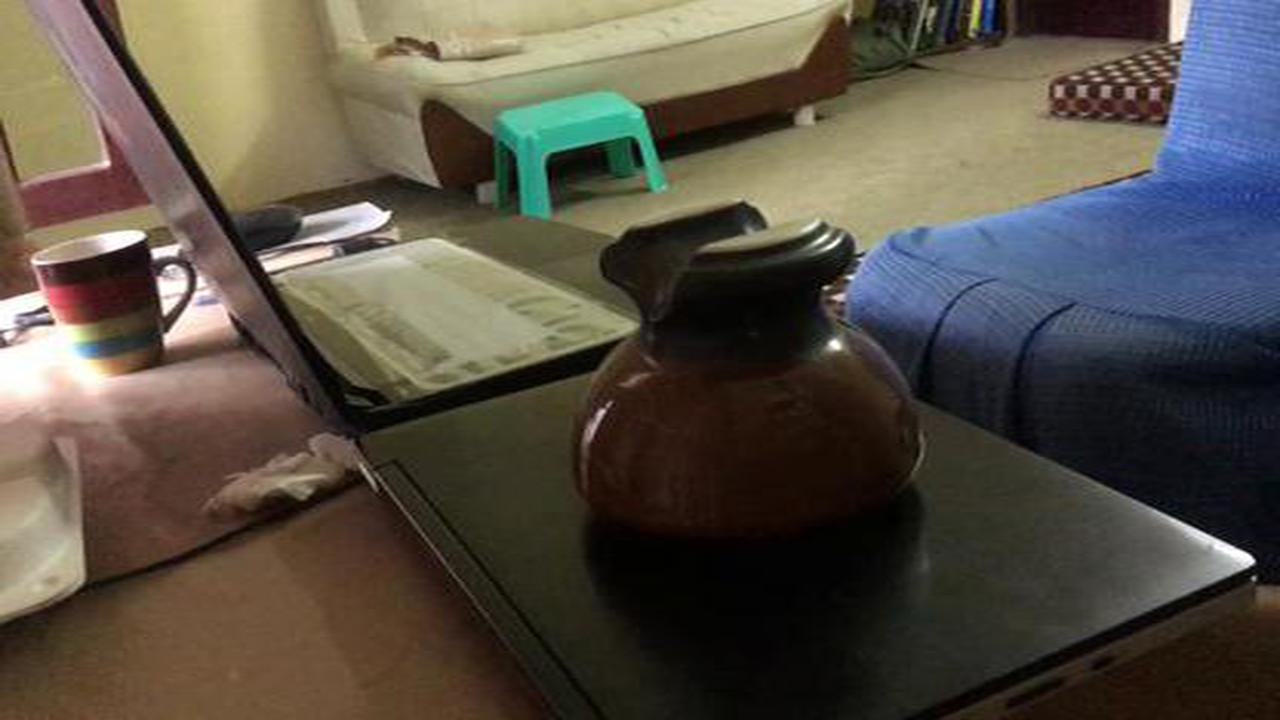insulator_pin: (554, 187, 942, 579)
